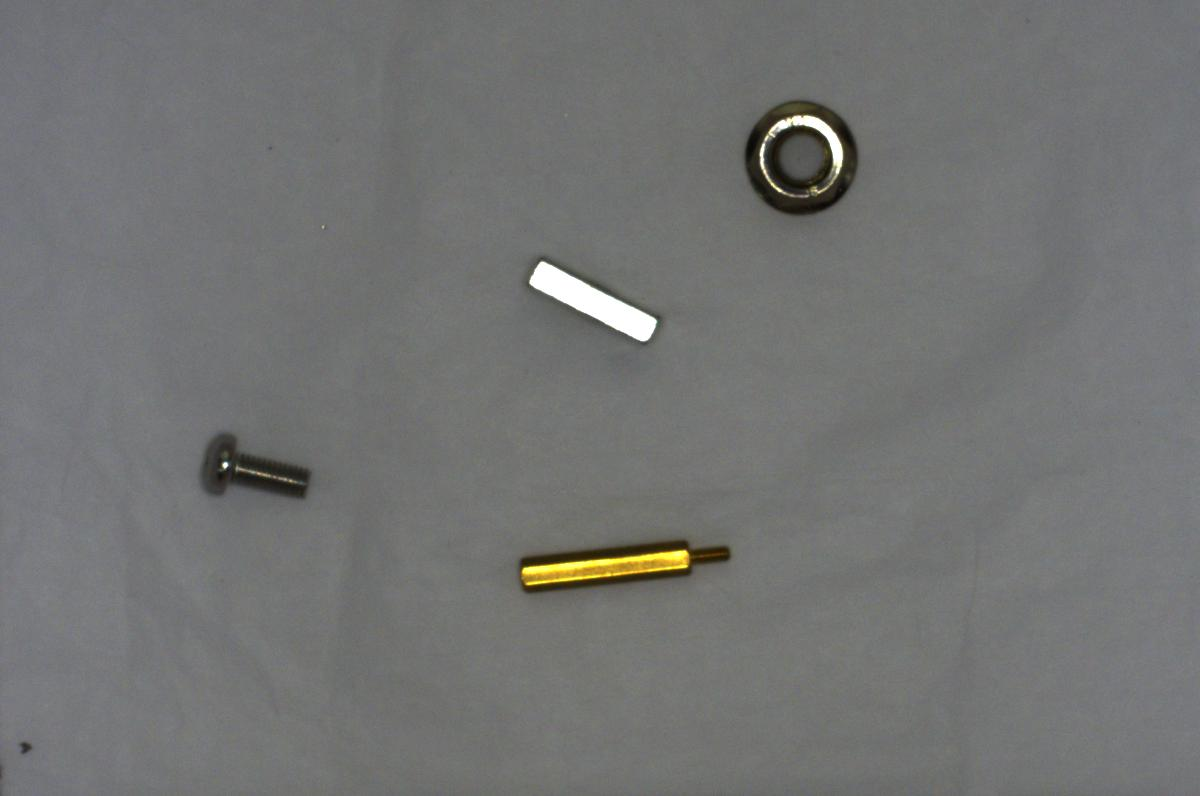Flange nut: (740, 96, 862, 222)
Hexagon pillar: (510, 529, 742, 589)
Rectangular nut: (526, 253, 670, 350)
Round head screw: (190, 421, 318, 513)
